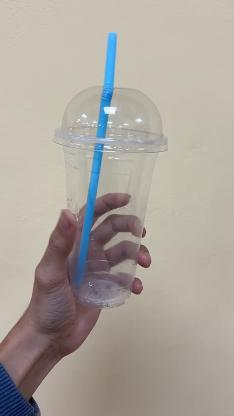Plastic Cup: (53, 86, 169, 308)
